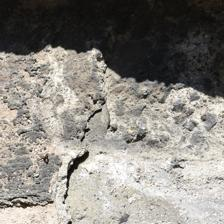Crack: (29, 49, 86, 163)
